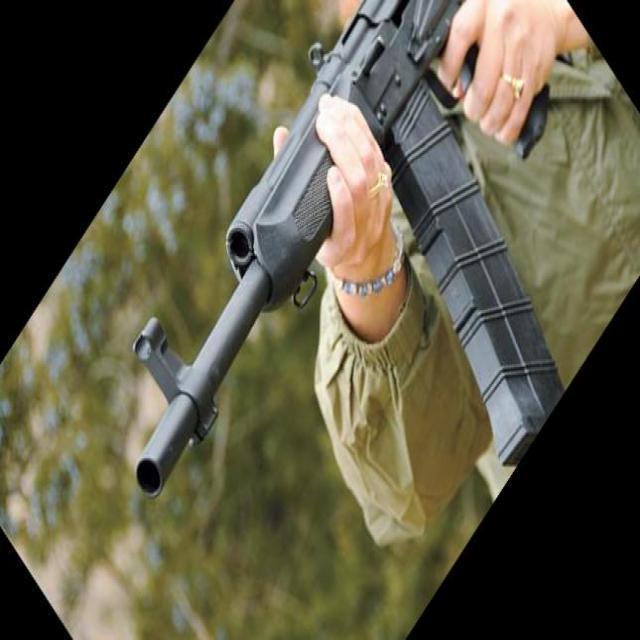weapon: (131, 0, 567, 502)
